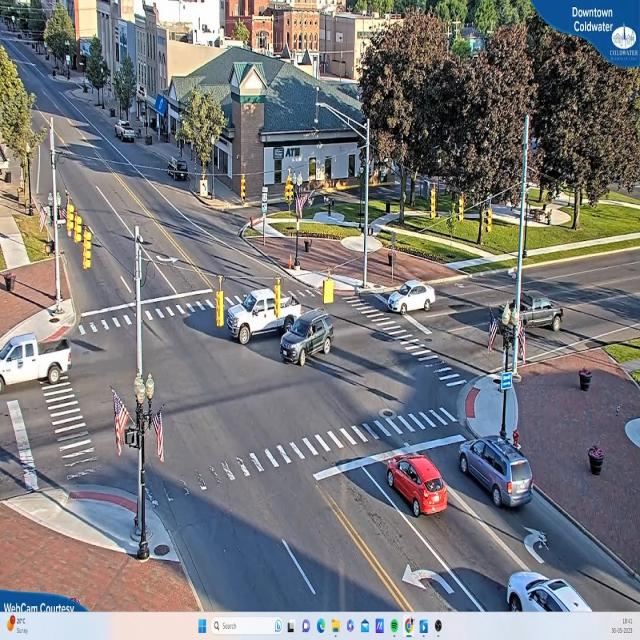car: (456, 435, 534, 509), (0, 322, 75, 398), (503, 572, 618, 612), (386, 456, 449, 519), (227, 287, 297, 343), (275, 310, 332, 365), (512, 294, 564, 337), (393, 282, 434, 314), (115, 123, 136, 143)
